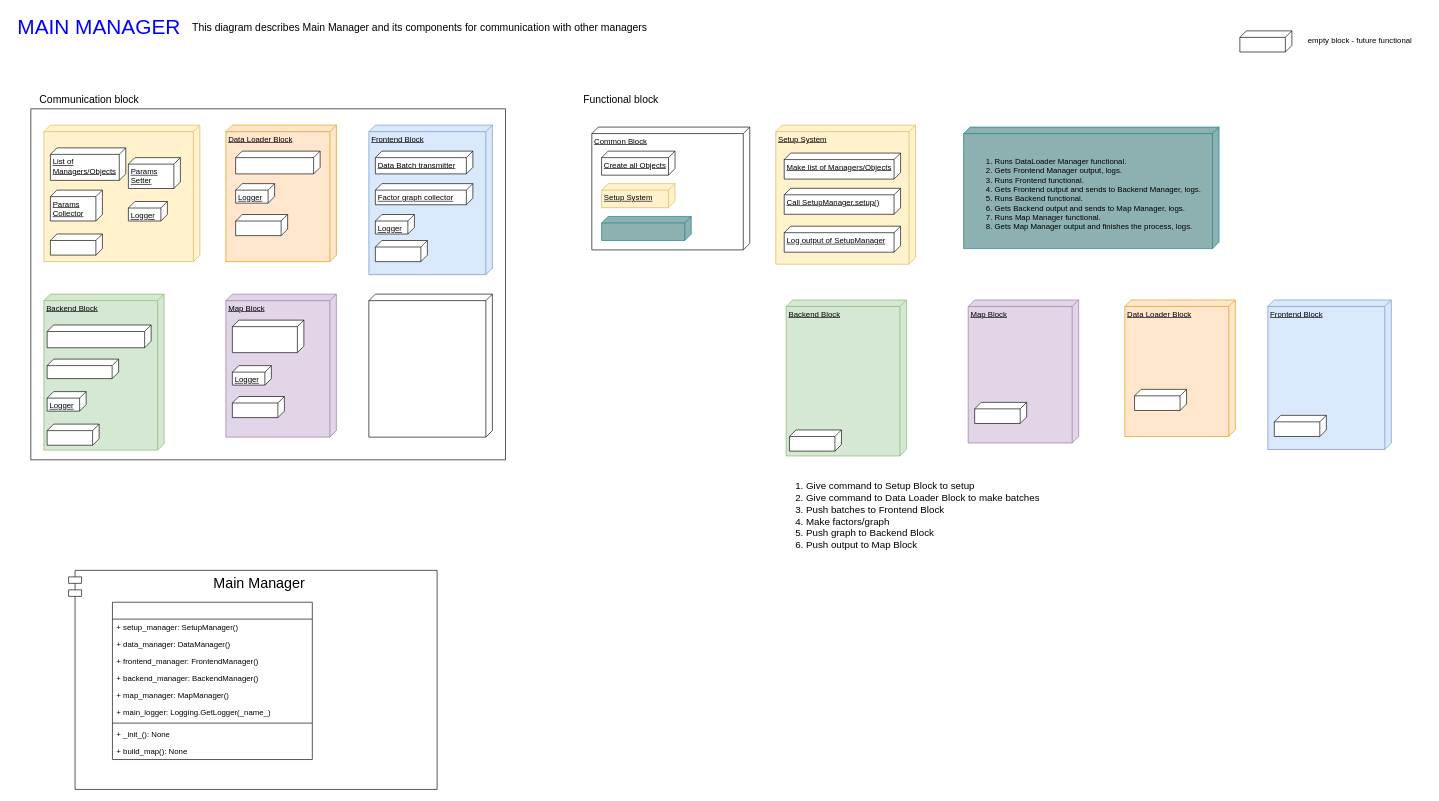
Some shapes in this 1439 by 801 pixel diagram are drawn without their labels. The shapes that lost their labels are listed below. From the top down, each one's box as (x1, y1, x2, y2) in pixels, then its label:
(235, 150, 320, 174): Data Batch collector
(43, 124, 200, 262): Setup Block
(963, 126, 1219, 249): Process Controller
(601, 216, 691, 240): run process controller
(46, 324, 151, 348): Graph transmitter-reciever
(232, 319, 304, 353): High-level graph transmitter
(46, 358, 119, 379): Metrics collector
(368, 293, 492, 437): Extra Block
(112, 602, 312, 760): MainManager
